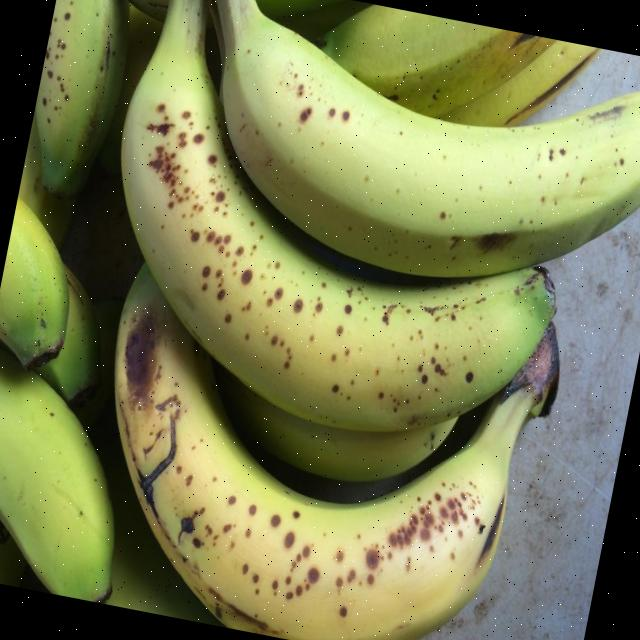banana: (119, 0, 555, 437), (112, 268, 557, 640), (218, 0, 640, 281)
